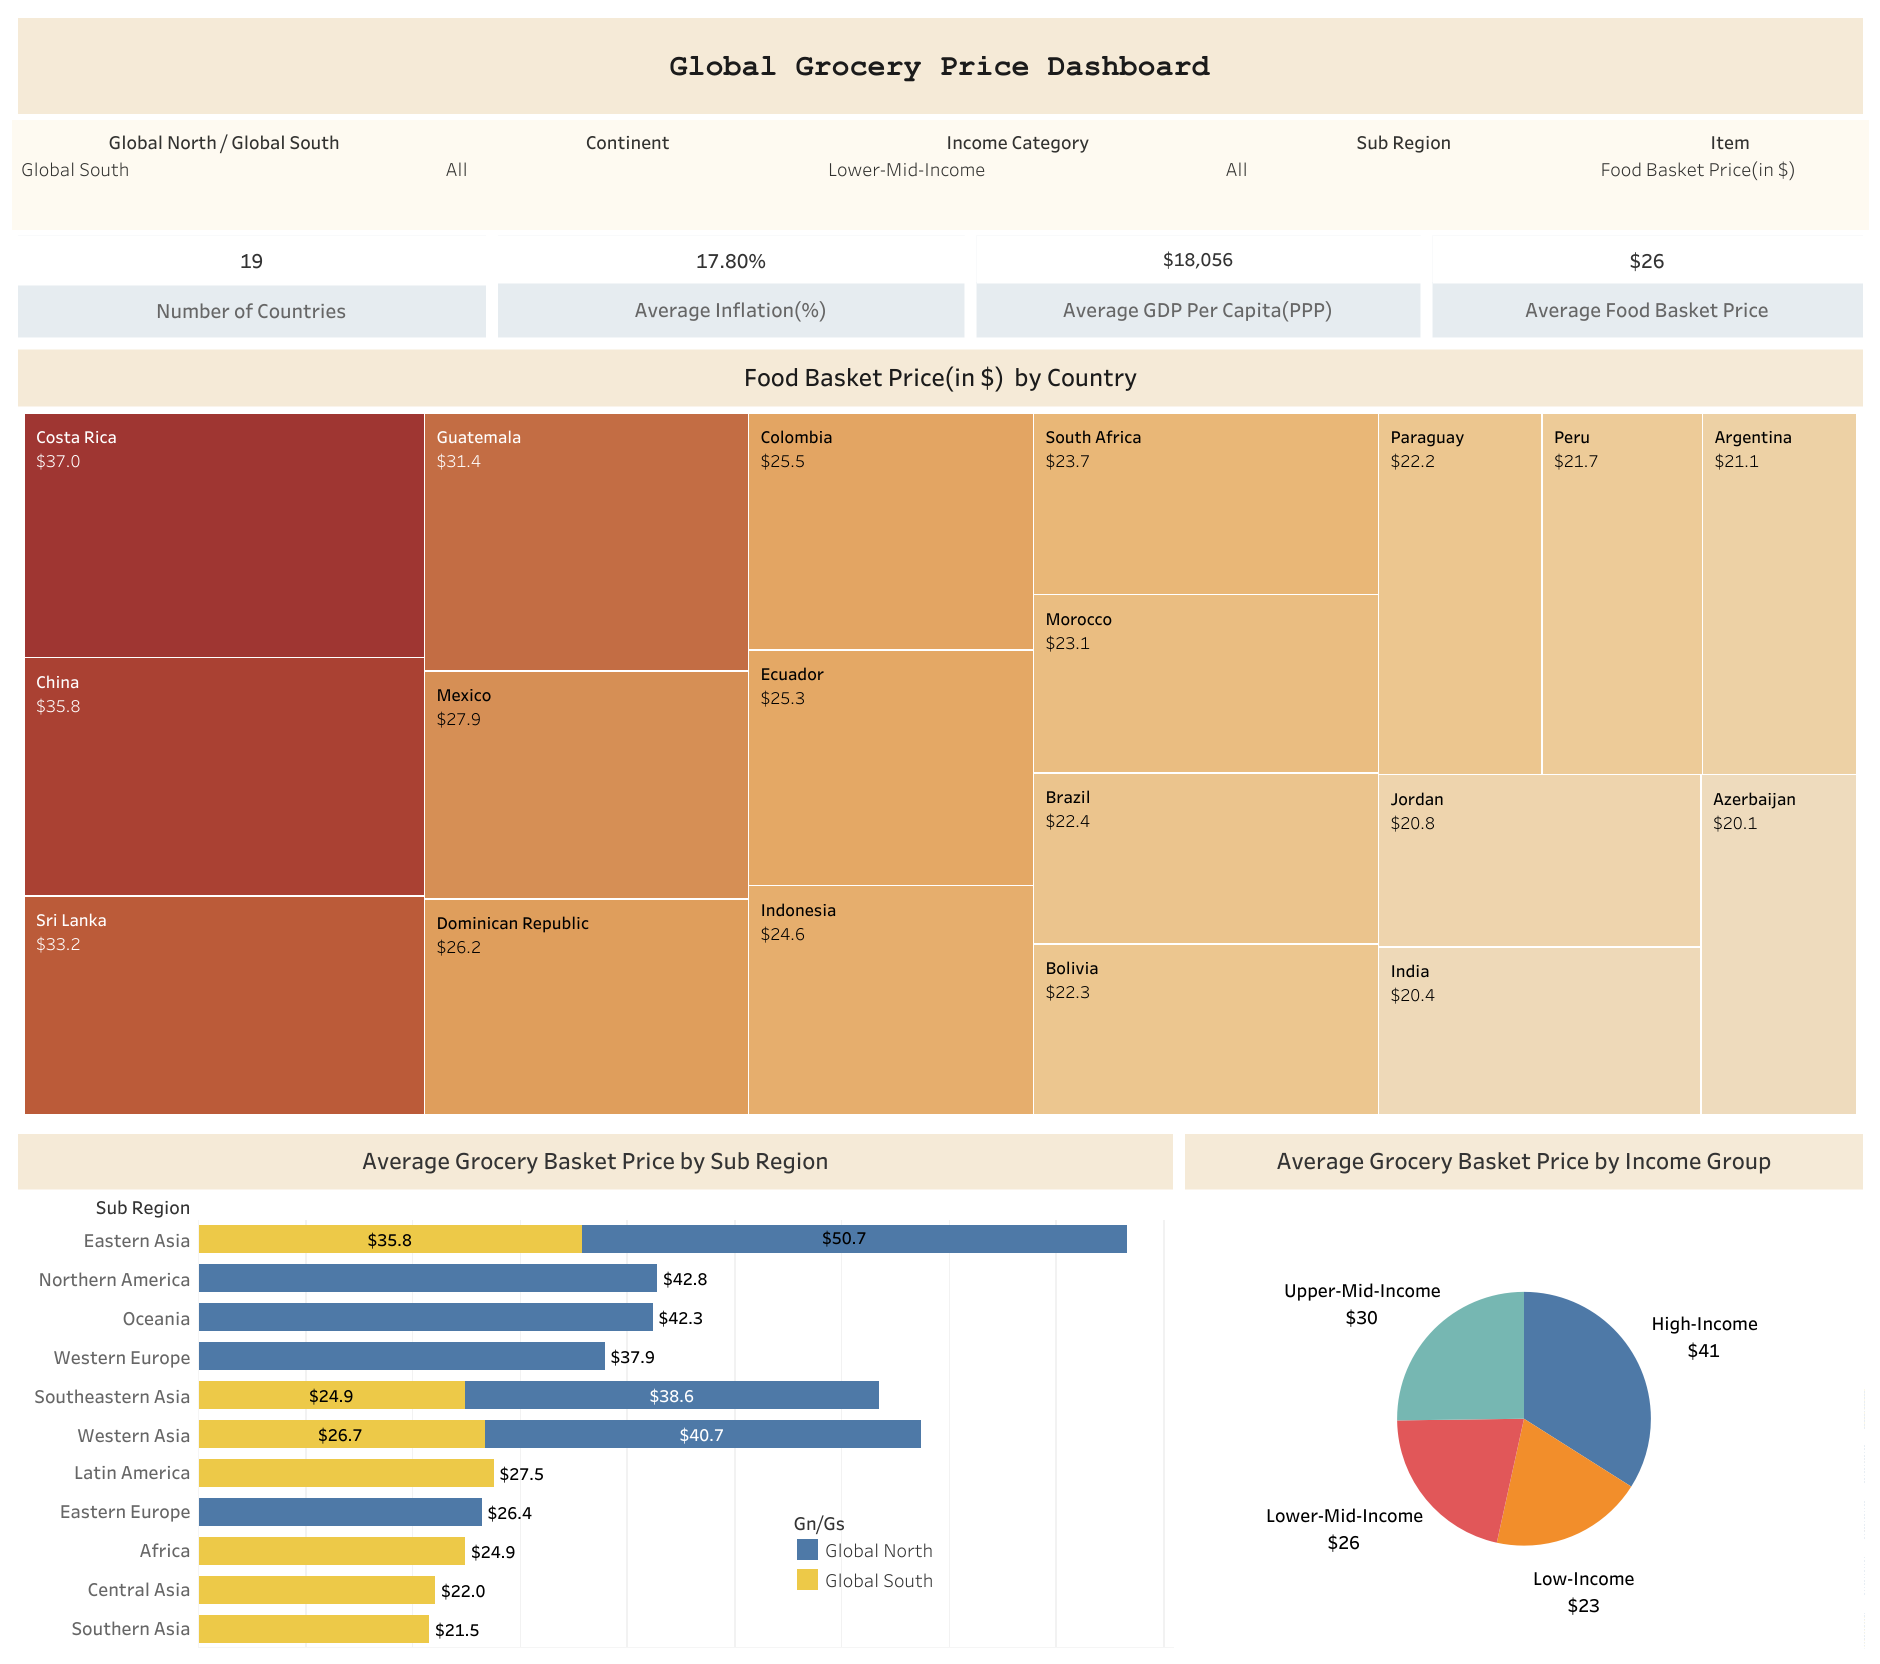

The page's visual inventory and layout, read from the dashboard file:
{"tool":"tableau","page":{"name":"Grocery Price Dashboard","canvas":[1000,1000],"units":"permille","ordinal":0},"visuals":[{"type":"text","box":[6.2,7.2,987.7,64.9]},{"type":"filter","title":"FbPrices/country","param":"[federated.1py9p9n0v34ymc1azn93t0xc4til].[none:GN/GS:nk]","box":[6.2,72.1,217.7,65.7]},{"type":"filter","title":"FbPrices/country","param":"[federated.1py9p9n0v34ymc1azn93t0xc4til].[none:Continent:nk]","box":[223.8,72.1,196.2,65.7]},{"type":"filter","title":"FbPrices/country","param":"[federated.1py9p9n0v34ymc1azn93t0xc4til].[none:Income_Category:nk]","box":[420,72.1,203.8,65.7]},{"type":"filter","title":"FbPrices/country","param":"[federated.1py9p9n0v34ymc1azn93t0xc4til].[none:Sub Region:nk]","box":[623.8,72.1,192.3,65.7]},{"type":"parameter","param":"[Parameters].[Parameter 1]","box":[816.1,72.1,177.7,65.7]},{"type":"worksheet","title":"num of countries","mark":"Automatic","box":[6.2,137.8,255.6,68.6]},{"type":"worksheet","title":"Avg Inflation","mark":"Automatic","box":[261.7,137.8,254.2,68.6]},{"type":"worksheet","title":"Avg Pc","mark":"Automatic","box":[516,137.8,242.9,68.6]},{"type":"worksheet","title":"Avg Gb price","mark":"Automatic","box":[758.9,137.8,235,68.6]},{"type":"worksheet","title":"FbPrices/country","mark":"Automatic","box":[6.2,206.4,987.7,471.2]},{"type":"worksheet","title":"Avg Gp/SR","mark":"Automatic","rows":["Sub Region"],"cols":["Food_Basket_Price(in $)"],"box":[6.2,677.6,598.5,315.2]},{"type":"worksheet","title":"Avg Gp/IG","mark":"Pie","box":[604.6,677.6,389.2,315.2]},{"type":"legend","title":"Avg Gp/SR","param":"[federated.1py9p9n0v34ymc1azn93t0xc4til].[none:GN/GS:nk]","box":[420.8,904.5,126.9,68.5]}]}

Visuals, with their boxes on the dashboard's canvas, which has no fixed pixel size, in thousandths of its width and height (x1, y1, x2, y2). These are canvas units, not pixel positions in the 1880x1664 screenshot, which may show the page scaled, cropped or inside an application window:
text: region(6, 7, 994, 72)
"FbPrices/country" filter: region(6, 72, 224, 138)
"FbPrices/country" filter: region(224, 72, 420, 138)
"FbPrices/country" filter: region(420, 72, 624, 138)
"FbPrices/country" filter: region(624, 72, 816, 138)
parameter: region(816, 72, 994, 138)
"num of countries" worksheet: region(6, 138, 262, 206)
"Avg Inflation" worksheet: region(262, 138, 516, 206)
"Avg Pc" worksheet: region(516, 138, 759, 206)
"Avg Gb price" worksheet: region(759, 138, 994, 206)
"FbPrices/country" worksheet: region(6, 206, 994, 678)
"Avg Gp/SR" worksheet: region(6, 678, 605, 993)
"Avg Gp/IG" worksheet (Pie marks): region(605, 678, 994, 993)
"Avg Gp/SR" legend: region(421, 904, 548, 973)
